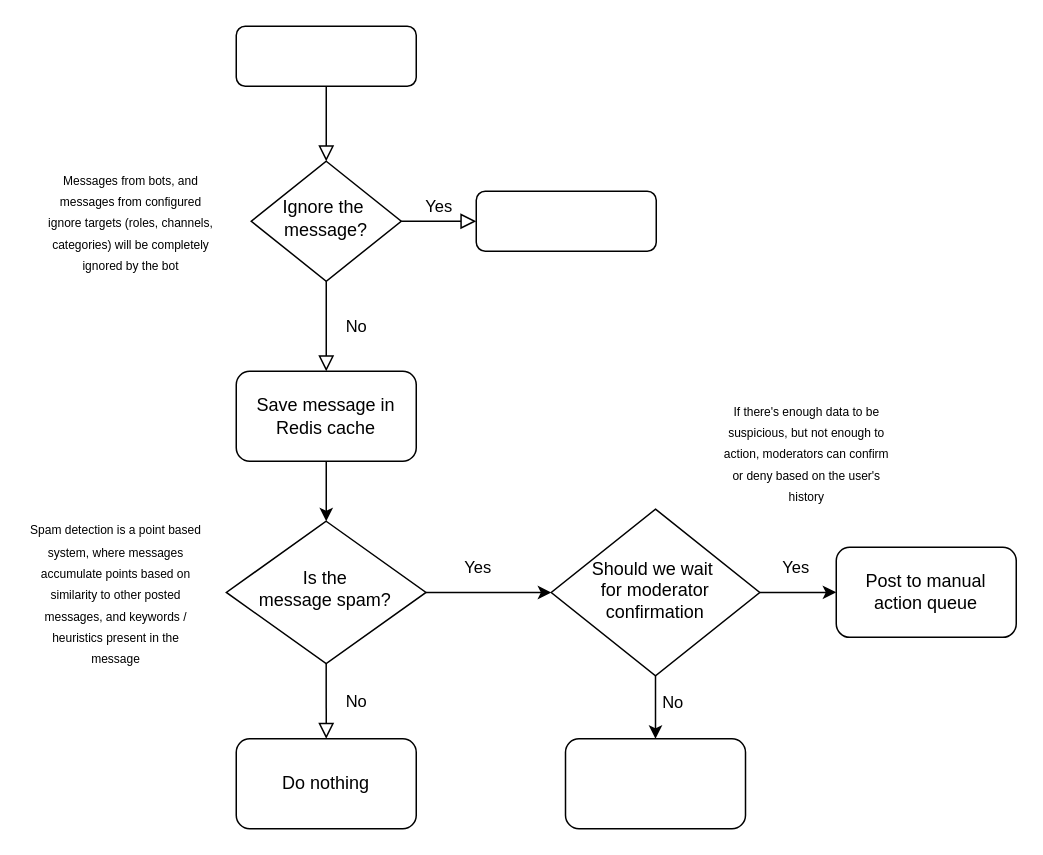
Image size: 1043x855. Some labels were removed from this diagram. The box of each missing label's shape, as (x1, y1, x2, y2) in pixels:
Execute action based on point thresholds: (564, 737, 746, 829)
Return: (475, 190, 656, 251)
User message event: (235, 25, 416, 86)
